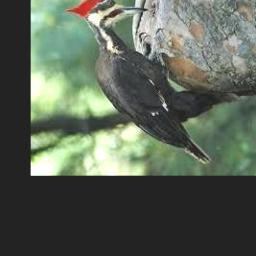Woodpecker: (66, 0, 213, 162)
